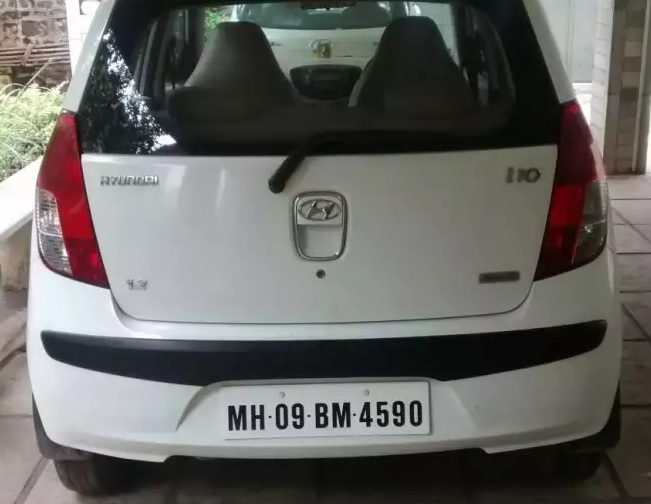licenseplate: (215, 378, 432, 437)
